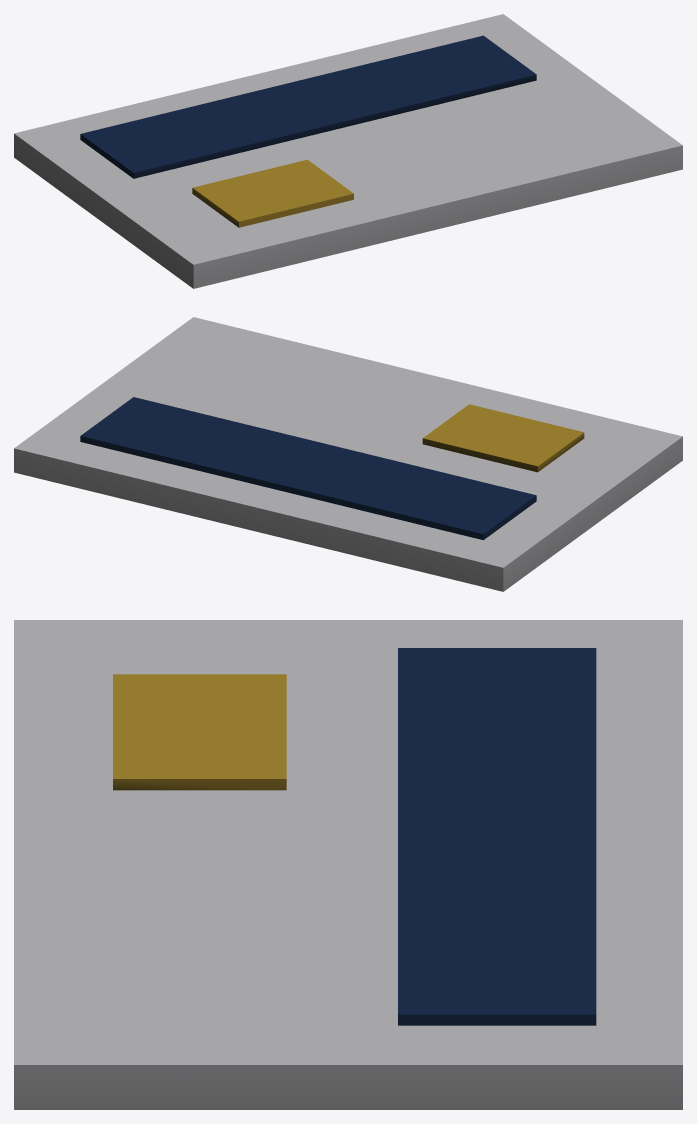
The model's file is llave_estacion.glb.
3 renders of one model, top to bottom at view 1: azimuth 30°, elevation 25°; view 2: azimuth 150°, elevation 25°; view 3: azimuth 270°, elevation 25°, orthographic. The views are drawn at different scales.
Visible parts, largest first — view 1: llave_estacion; view 2: llave_estacion; view 3: llave_estacion.
Boxes of the visible parts, left/top/right/bottom form: llave_estacion: left=14, top=14, right=682, bottom=288; llave_estacion: left=14, top=317, right=682, bottom=591; llave_estacion: left=14, top=620, right=682, bottom=1109.
Size of the model in its own units: 0.085 by 0.005 by 0.054.
